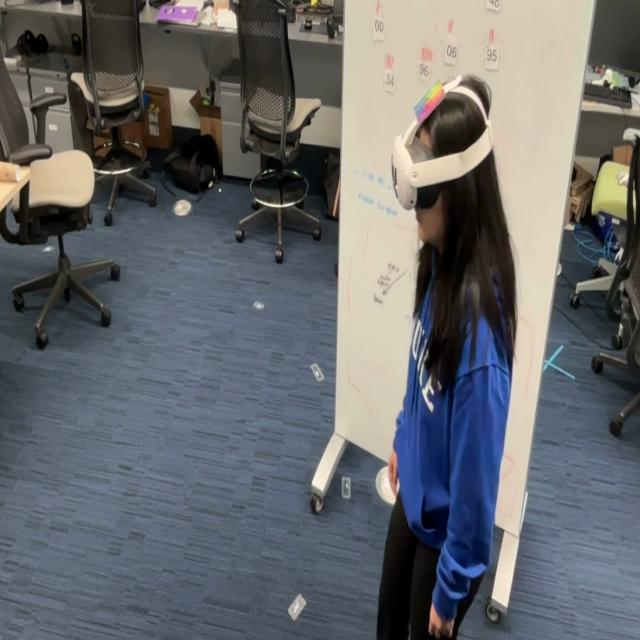Headset: (391, 78, 493, 210)
Marker: (414, 76, 446, 130)
